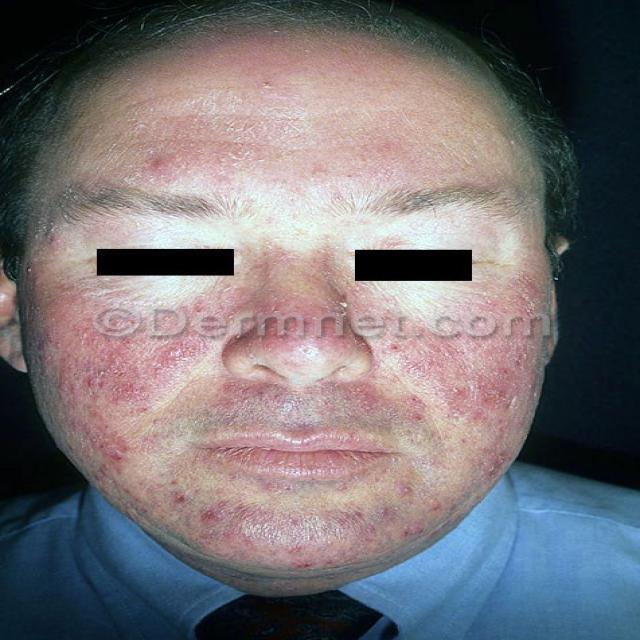skinredness: (88, 301, 484, 534)
